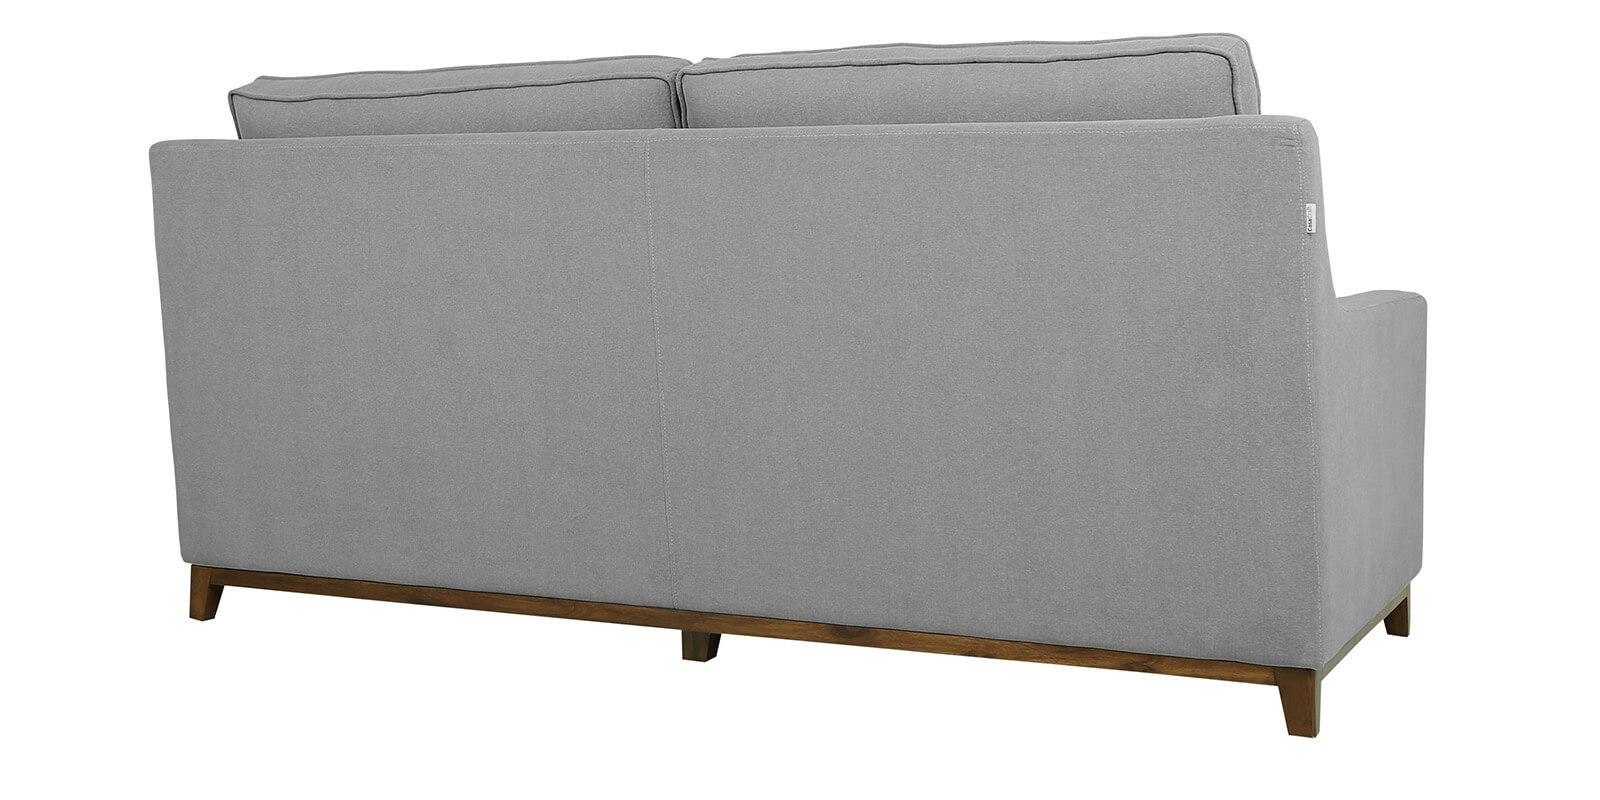Diego Three Seater Sofa in Ash Grey Colour by CasaCraft: (100, 55, 1470, 765)
